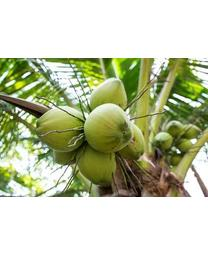coconut: (34, 103, 89, 155), (81, 102, 133, 151), (72, 143, 117, 185), (84, 78, 128, 114), (117, 122, 147, 161)
